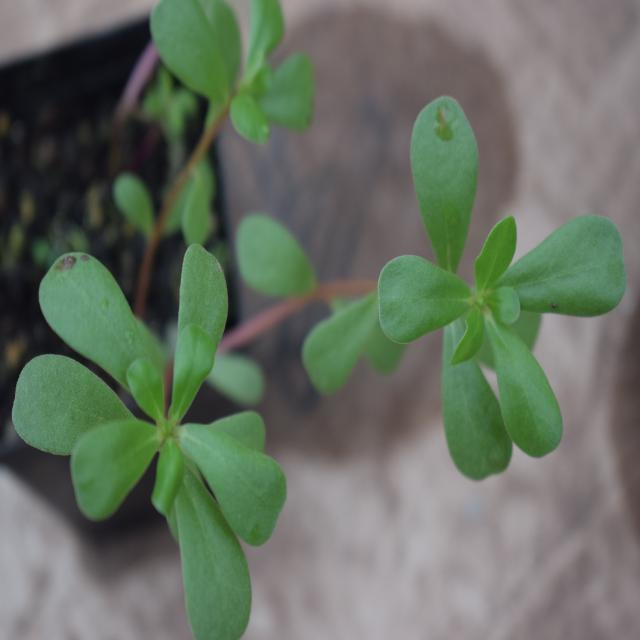purslane: (343, 86, 614, 560), (23, 204, 330, 613)
